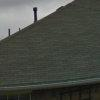Chimney: (28, 3, 39, 32)
